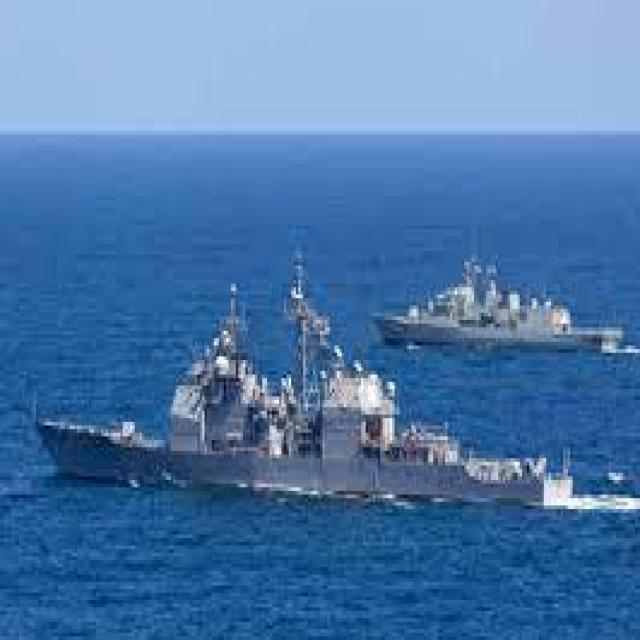navalvessels: (25, 284, 581, 532), (365, 253, 616, 369)
